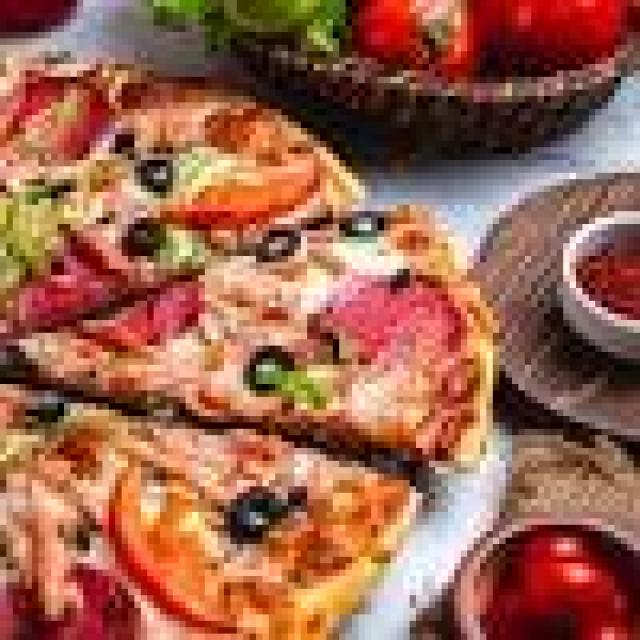피자: (0, 79, 478, 636)
